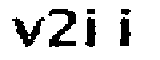2: (47, 6, 78, 51)
i: (116, 6, 137, 49), (86, 7, 101, 50)
v: (10, 16, 45, 50)
